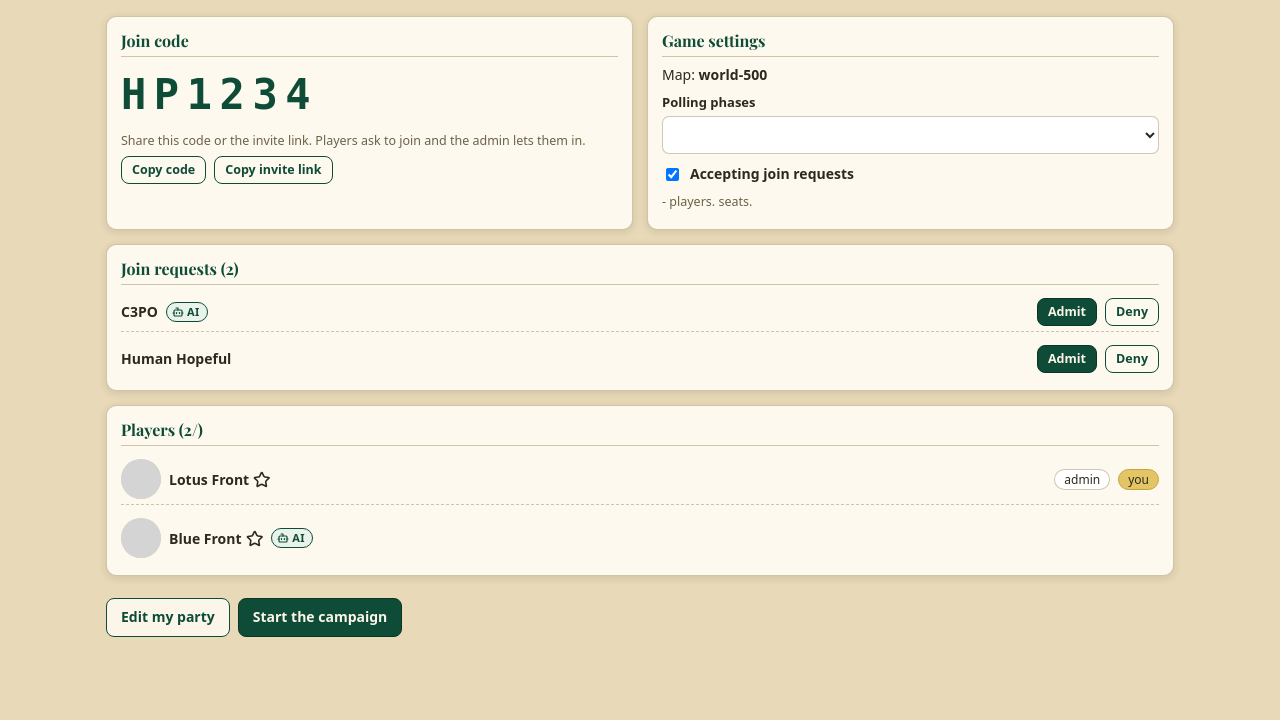
Test case: Lobby › sharing the game › tells the player when copying is impossible
This screenshot has width=1280, height=720.
Click the button "Copy code".
click(164, 170)  # box [121,156,206,184]
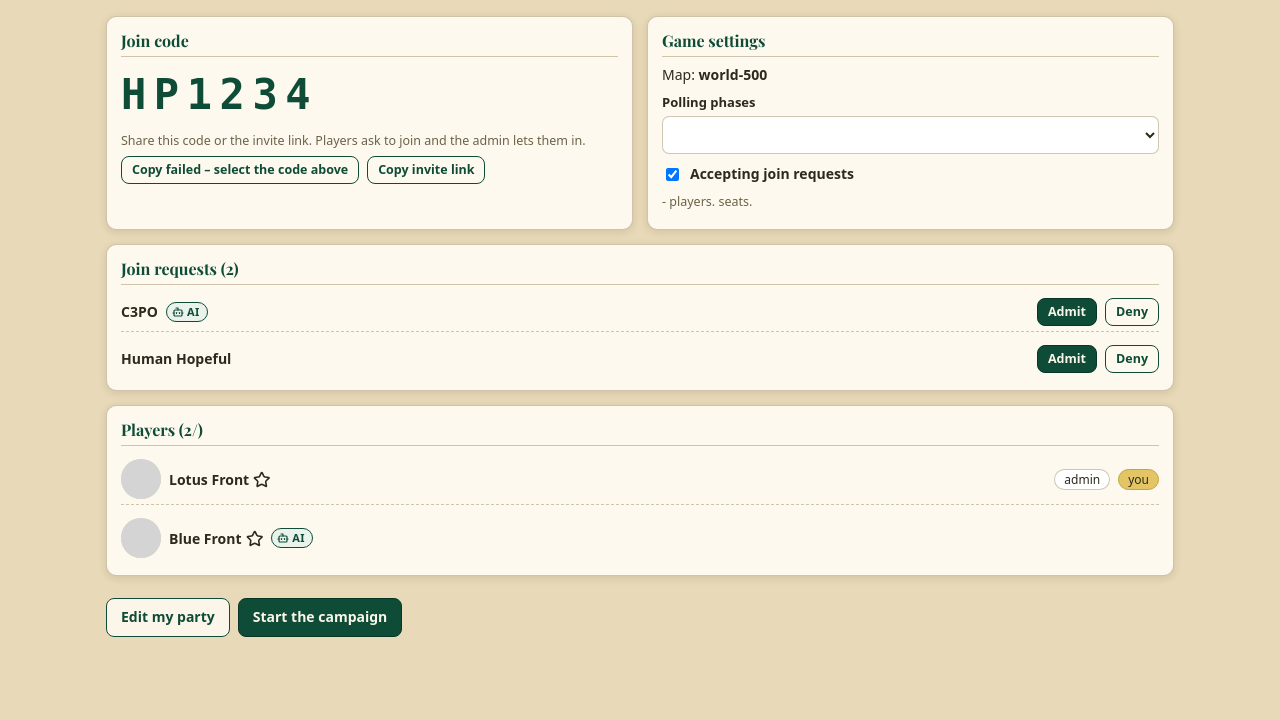
Expected: the button "Copy failed – select the code above" is shown, [121,156,359,184]
